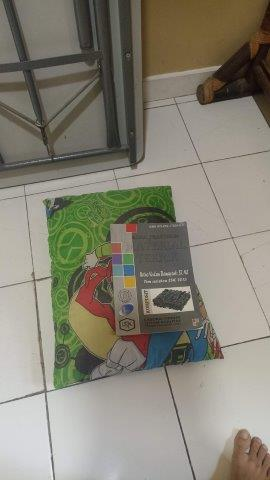kertas: (110, 222, 204, 334)
